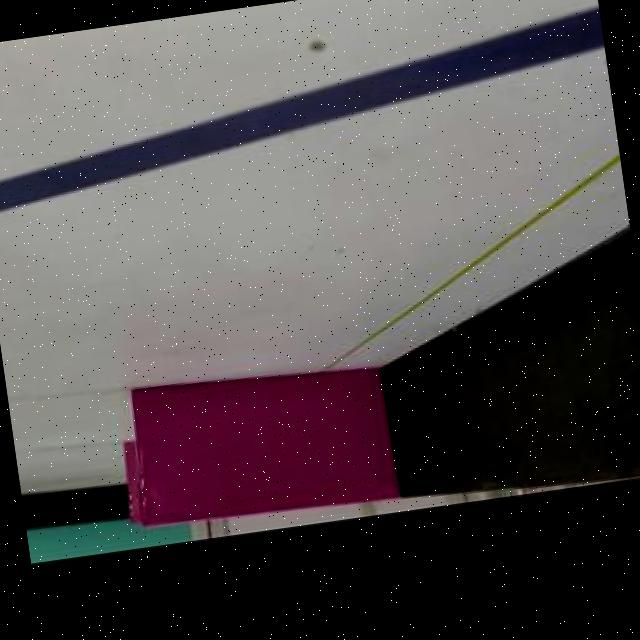xparking: (126, 356, 379, 526)
